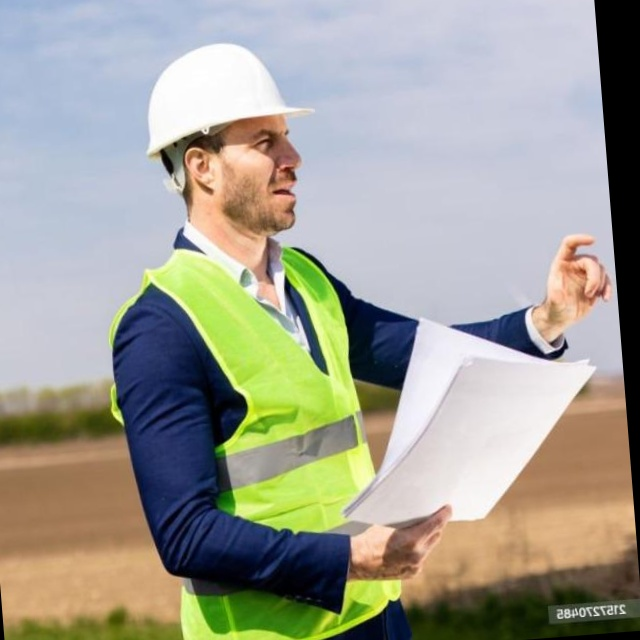Con_Casco: (137, 34, 324, 245)
Con_Chaleco: (139, 232, 388, 640)
